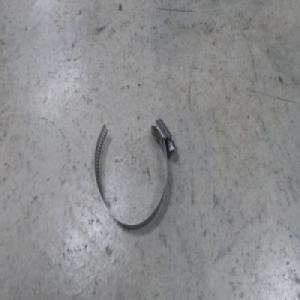AdjustableClamp: (90, 122, 173, 235)
